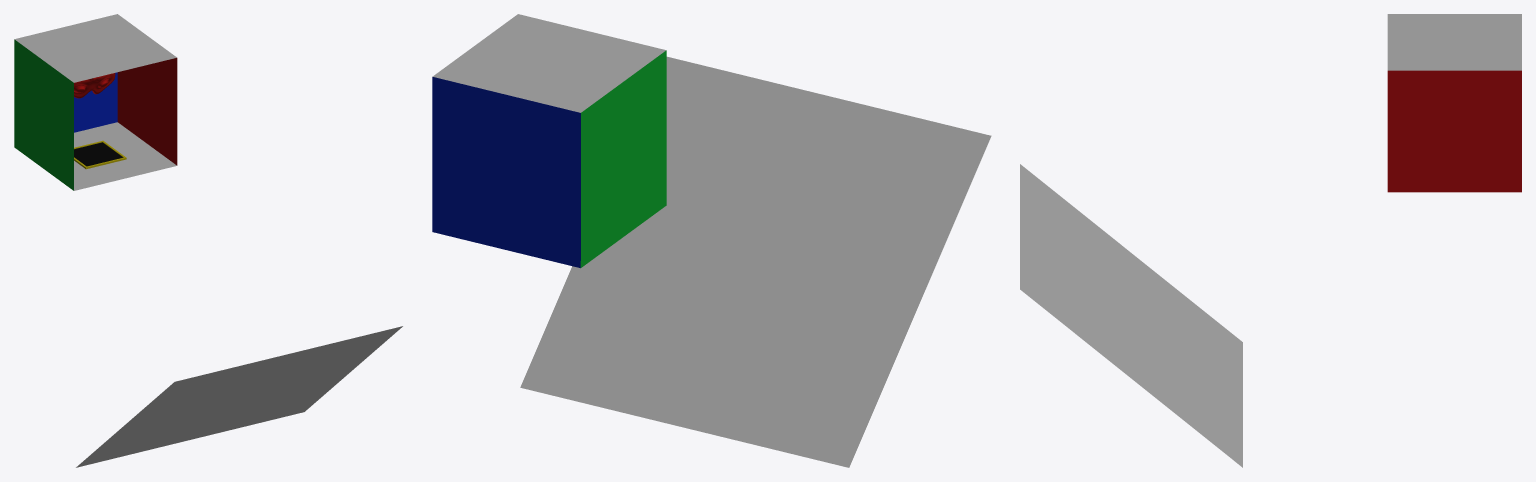
File: tudo.obj
3 renders of one model, left to right at view 1: azimuth 30°, elevation 25°; view 2: azimuth 150°, elevation 25°; view 3: azimuth 270°, elevation 25°, orthographic. The views are drawn at different scales.
Visible parts, largest first — view 1: super_light_plane_light_Plane.004_Plane_ligth, right_wall_Plane.002_wall3_right_wall, floor_Plane_Floor_floor, left_wall_Plane.001_wall1_left_wall, teto_Plane.006_Teto_teto, back_wall_Plane.003_wall2_back_wall.001, light_Plane.004_Plane_ligth, Suzanne_Suzanne.001; view 2: super_light_plane_light_Plane.004_Plane_ligth, back_wall_Plane.003_wall2_back_wall.001, right_wall_Plane.002_wall3_right_wall, floor_Plane_Floor_floor; view 3: super_light_plane_light_Plane.004_Plane_ligth, left_wall_Plane.001_wall1_left_wall, floor_Plane_Floor_floor.
Part boxes in pixels (x1,y1,x2,y2): super_light_plane_light_Plane.004_Plane_ligth: (76, 326, 402, 467); right_wall_Plane.002_wall3_right_wall: (14, 39, 73, 190); floor_Plane_Floor_floor: (14, 14, 176, 82); left_wall_Plane.001_wall1_left_wall: (117, 58, 177, 165); teto_Plane.006_Teto_teto: (74, 122, 176, 190); back_wall_Plane.003_wall2_back_wall.001: (74, 72, 117, 132); light_Plane.004_Plane_ligth: (74, 142, 122, 166); Suzanne_Suzanne.001: (74, 73, 115, 98); super_light_plane_light_Plane.004_Plane_ligth: (520, 56, 991, 467); back_wall_Plane.003_wall2_back_wall.001: (432, 77, 580, 267); right_wall_Plane.002_wall3_right_wall: (580, 50, 666, 267); floor_Plane_Floor_floor: (432, 14, 666, 112); super_light_plane_light_Plane.004_Plane_ligth: (1020, 164, 1242, 467); left_wall_Plane.001_wall1_left_wall: (1387, 70, 1521, 192); floor_Plane_Floor_floor: (1387, 14, 1521, 70).
Bounding box in the file's own units: 4.43 × 5.97 × 7.48.
